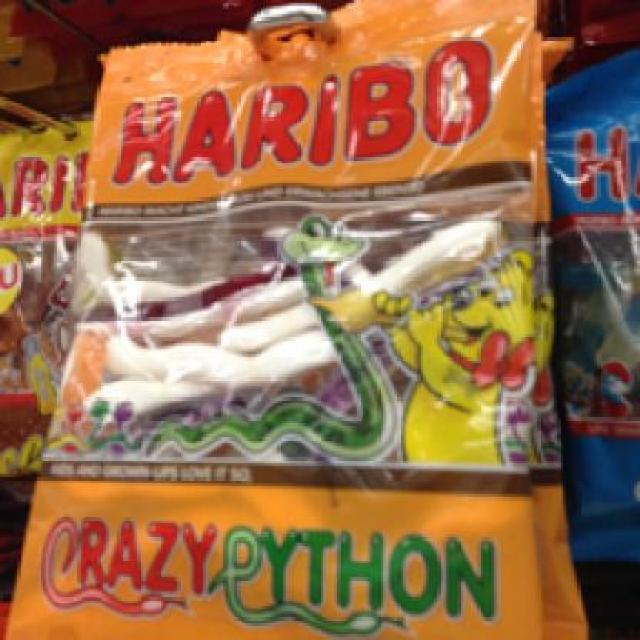Candy: (26, 6, 572, 634)
